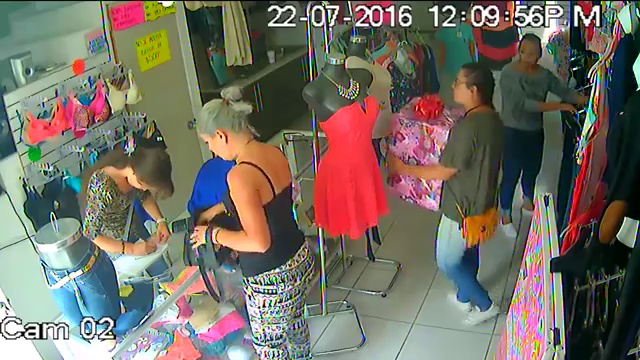face: (197, 121, 233, 157), (450, 68, 477, 100), (517, 45, 537, 67)
